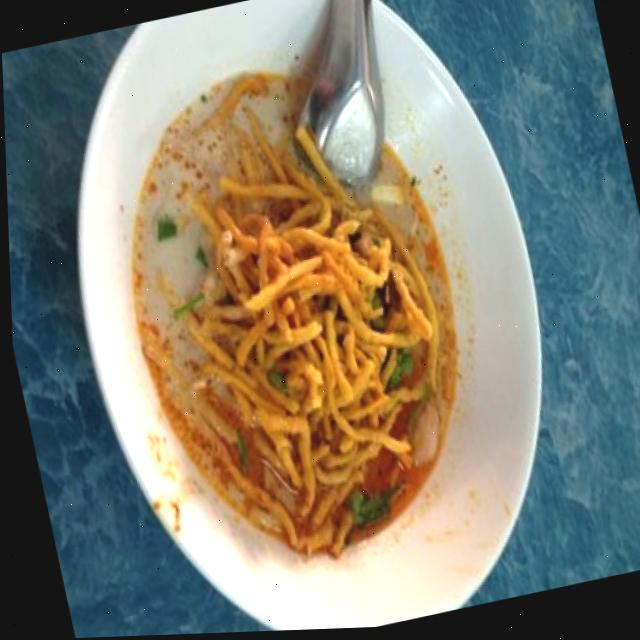面条主食: (85, 35, 508, 607)
